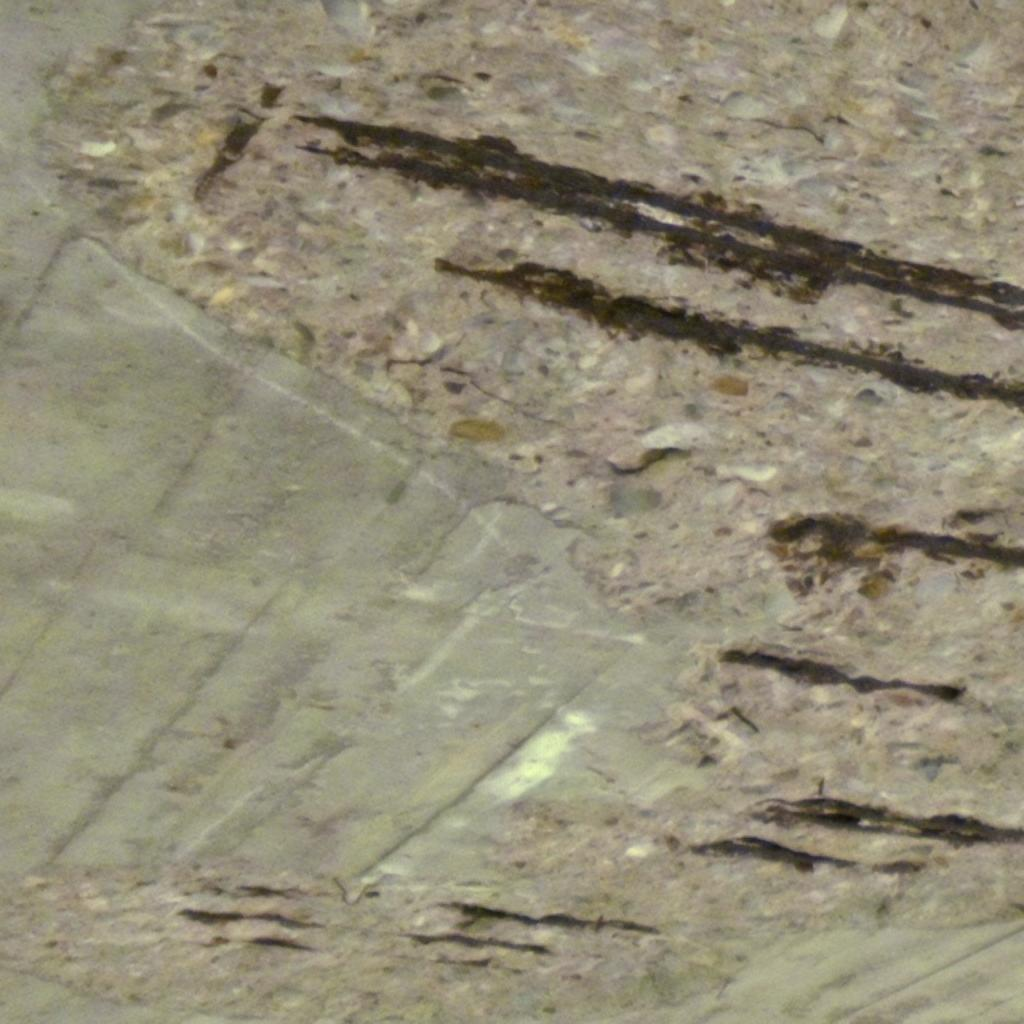exposed_rebar: (296, 116, 1024, 330), (434, 258, 1024, 411), (768, 512, 1024, 592), (752, 796, 1024, 845), (720, 648, 966, 700), (442, 902, 660, 934), (194, 112, 264, 200), (692, 836, 856, 872), (404, 932, 550, 954), (178, 908, 322, 928), (248, 936, 312, 951)
spalling: (14, 0, 1024, 1021)
